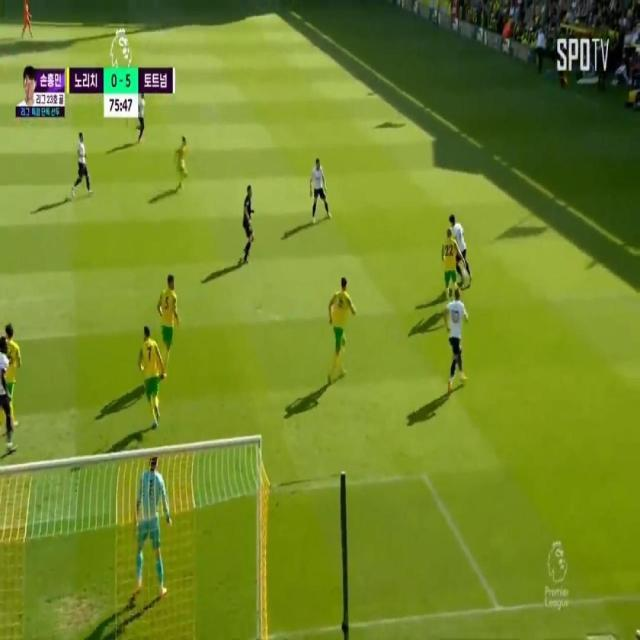goalkeeper: (126, 448, 176, 608)
player: (328, 274, 353, 379), (447, 283, 467, 391), (141, 324, 162, 423), (68, 130, 91, 192), (452, 212, 468, 294), (161, 274, 177, 353), (5, 324, 18, 421), (440, 228, 458, 293), (134, 82, 146, 153), (0, 341, 8, 439), (313, 154, 323, 219), (175, 136, 185, 184)
referee: (239, 185, 255, 268)
